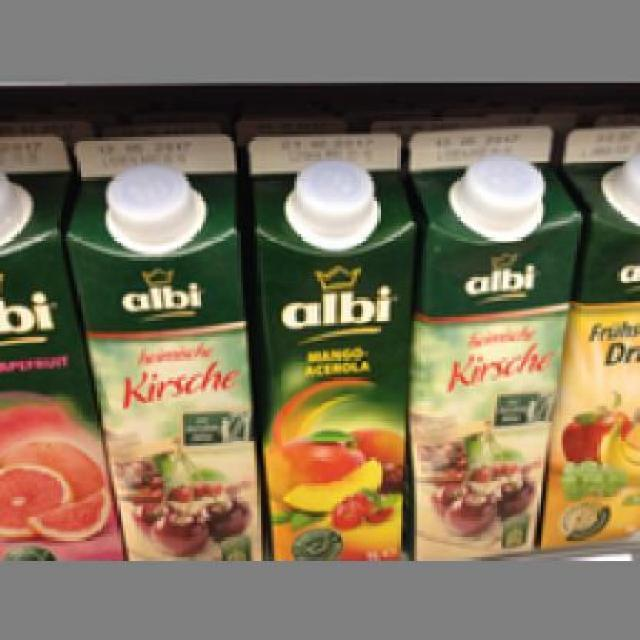Juice: (60, 132, 263, 554), (400, 125, 577, 558), (246, 132, 414, 558)
